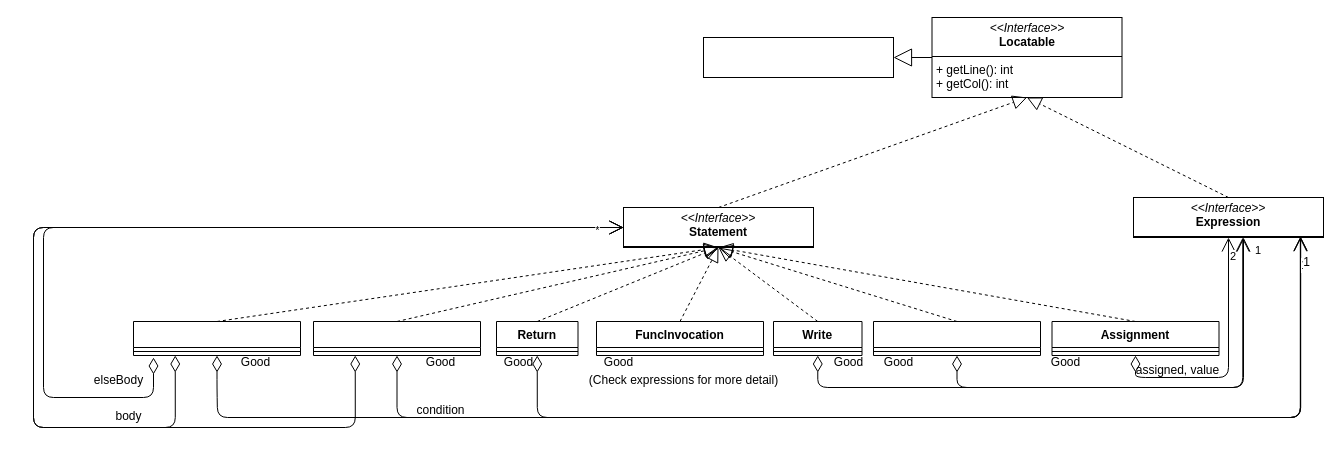
Image size: 1341x462. Some labels were removed from this diagram. The centre of each missing label's shape, as x and y in pixels:
<<Interface>> ASTNode: the point at 798,57
Conditional: the point at 216,338
Read: the point at 956,338
While: the point at 396,338
